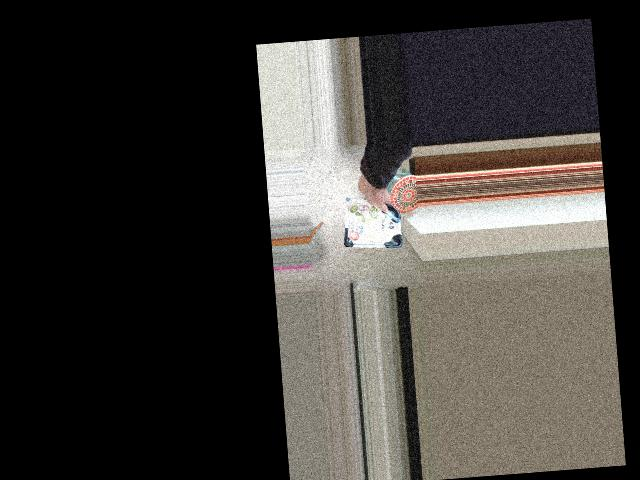cheese: (339, 176, 401, 239)
